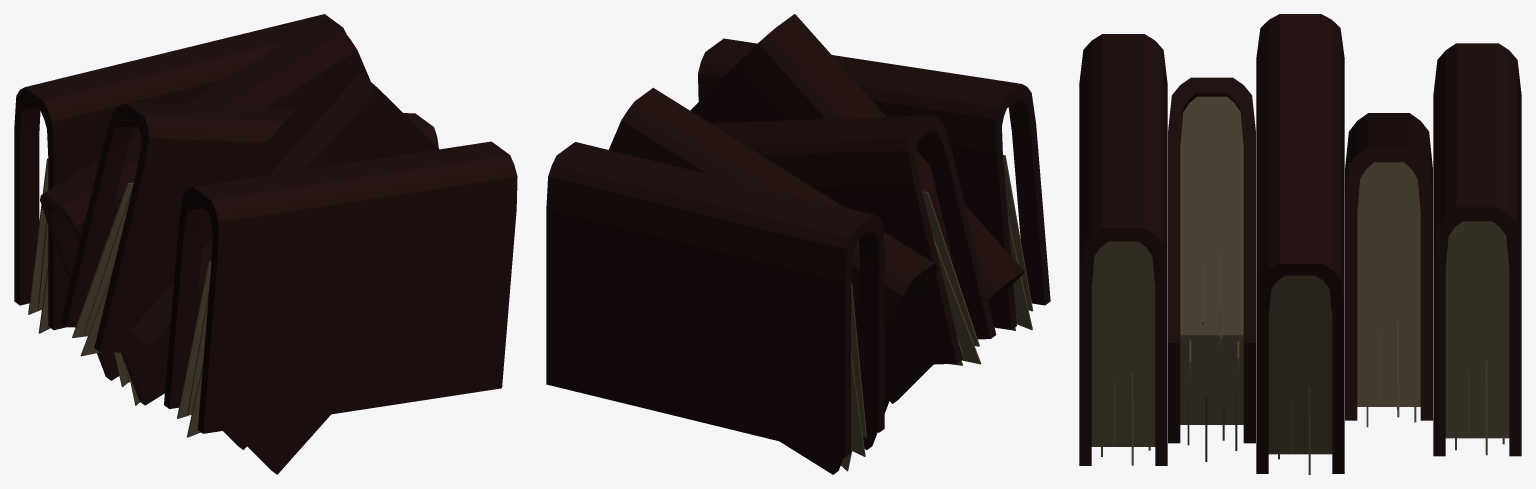
3 renders of one model, left to right at view 1: azimuth 30°, elevation 25°; view 2: azimuth 150°, elevation 25°; view 3: azimuth 270°, elevation 25°, orthographic. The views are drawn at different scales.
Visible parts, largest first — view 1: part_1, part_5, part_9, part_3, part_7, part_4, part_0, part_8; view 2: part_9, part_5, part_1, part_7, part_3, part_4, part_0, part_8; view 3: part_5, part_1, part_9, part_2, part_6, part_8, part_0, part_4, part_7, part_3.
Part boxes in pixels (bbox=[...]): part_1: bbox=[164, 141, 517, 433]; part_5: bbox=[60, 103, 438, 353]; part_9: bbox=[14, 14, 345, 330]; part_3: bbox=[111, 59, 438, 474]; part_7: bbox=[40, 17, 370, 405]; part_4: bbox=[72, 182, 133, 356]; part_0: bbox=[177, 261, 211, 437]; part_8: bbox=[28, 158, 50, 333]; part_9: bbox=[546, 142, 884, 457]; part_5: bbox=[711, 115, 996, 365]; part_1: bbox=[698, 38, 1050, 329]; part_7: bbox=[609, 87, 937, 474]; part_3: bbox=[690, 14, 1024, 403]; part_4: bbox=[922, 191, 981, 365]; part_0: bbox=[1003, 154, 1033, 330]; part_8: bbox=[846, 283, 866, 457]; part_5: bbox=[1256, 14, 1344, 473]; part_1: bbox=[1079, 34, 1167, 465]; part_9: bbox=[1433, 43, 1521, 456]; part_2: bbox=[1180, 96, 1243, 461]; part_6: bbox=[1357, 162, 1420, 427]; part_8: bbox=[1445, 221, 1509, 455]; part_0: bbox=[1091, 241, 1155, 465]; part_4: bbox=[1268, 275, 1332, 474]; part_7: bbox=[1345, 113, 1432, 420]; part_3: bbox=[1168, 77, 1255, 443].
Size of the model in its own units: 0.2176 by 0.214 by 0.2.
